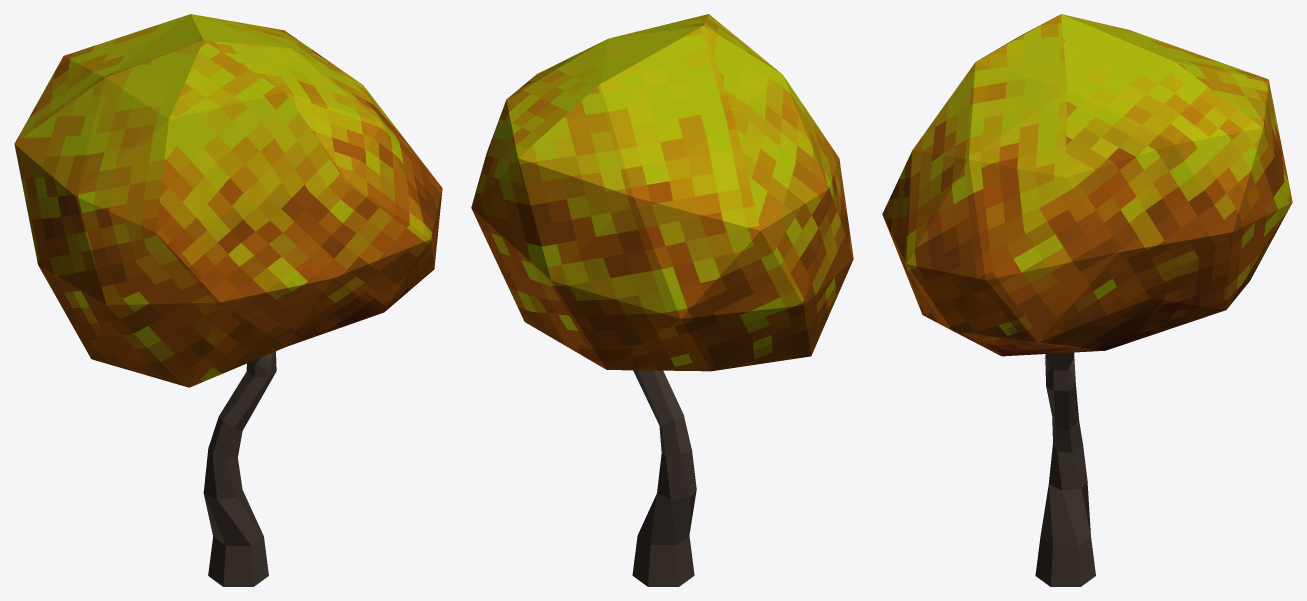
File: tree1yellow.glb
3 renders of one model, left to right at view 1: azimuth 30°, elevation 25°; view 2: azimuth 150°, elevation 25°; view 3: azimuth 270°, elevation 25°, orthographic. The views are drawn at different scales.
Visible parts, largest first — view 1: Icosphere.001, Cylinder.001; view 2: Icosphere.001, Cylinder.001; view 3: Icosphere.001, Cylinder.001.
Boxes of the visible parts, <box> form: Icosphere.001: <box>14,14,442,387</box>; Cylinder.001: <box>203,351,276,586</box>; Icosphere.001: <box>471,14,853,371</box>; Cylinder.001: <box>632,370,696,586</box>; Icosphere.001: <box>882,14,1292,356</box>; Cylinder.001: <box>1035,352,1095,586</box>.
Bounding box in the file's own units: 12.62 × 19.79 × 13.54.
Materials: 2 (1 with a texture image).
